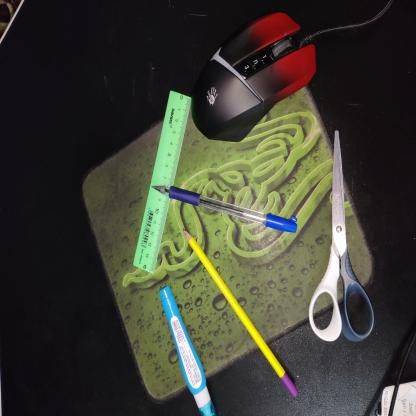Pen: (155, 179, 297, 247)
